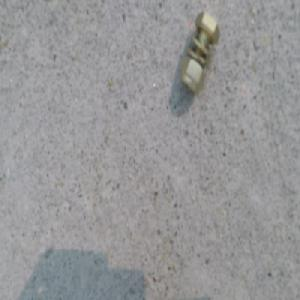BoltNutSet: (180, 13, 221, 92)
